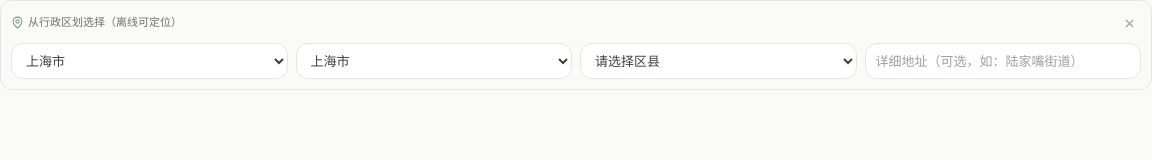
Test: RegionSelector · 三级联动（D1） › 展开后默认选中首个省，市/区禁用；选择市后区可选
Expected: the dropdown named "选择市" shows "上海市", [296,43,572,79]
// 切到贵州 → 市需手动选，区未选市前禁用
Select "贵州省" in the dropdown named "选择省": [149, 61] box [11,43,288,79]
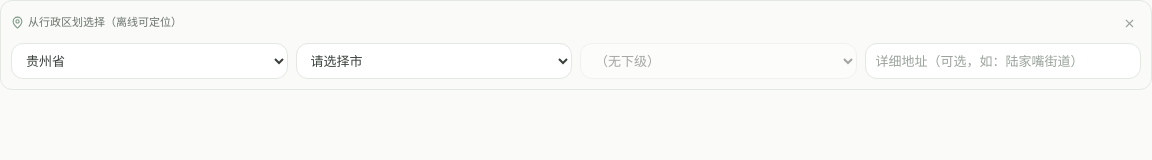
Now the dropdown named "选择区县" is disabled, box [580,43,856,79]
// 选市 → 区可选
Select "贵阳市" in the dropdown named "选择市": [434, 61] box [296,43,572,79]
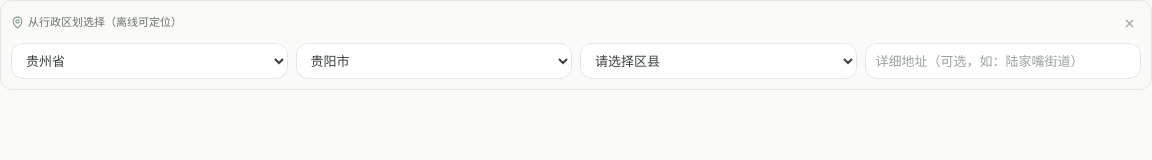
Now the dropdown named "选择区县" is enabled, box [580,43,856,79]
